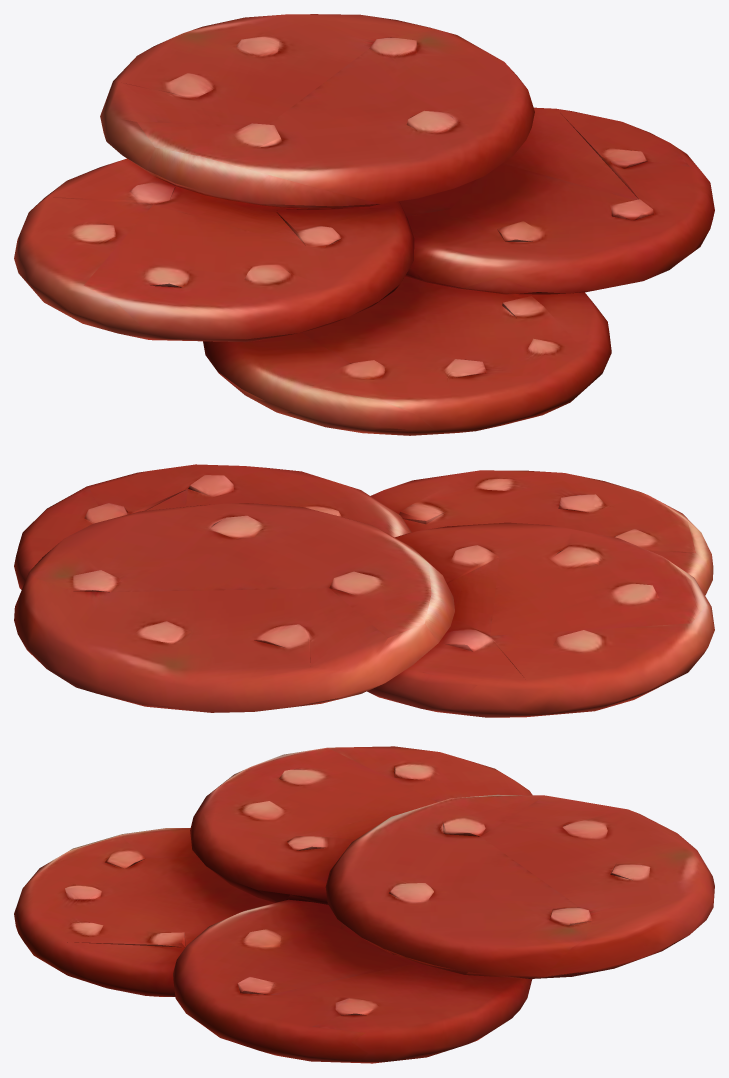
The model's file is pepperoni.glb.
3 views of the same model, one above another, from view 1: azimuth 30°, elevation 25°; view 2: azimuth 150°, elevation 25°; view 3: azimuth 270°, elevation 25° (orthographic). The views are drawn at different scales.
Visible parts, largest first — view 1: model; view 2: model; view 3: model.
Part boxes in pixels (<box>): model: <box>14,14,714,435</box>; model: <box>14,464,714,717</box>; model: <box>14,746,714,1063</box>.
Bounding box in the file's own units: 1.79 × 0.3087 × 1.9.
Materials: 1 (1 with a texture image).
